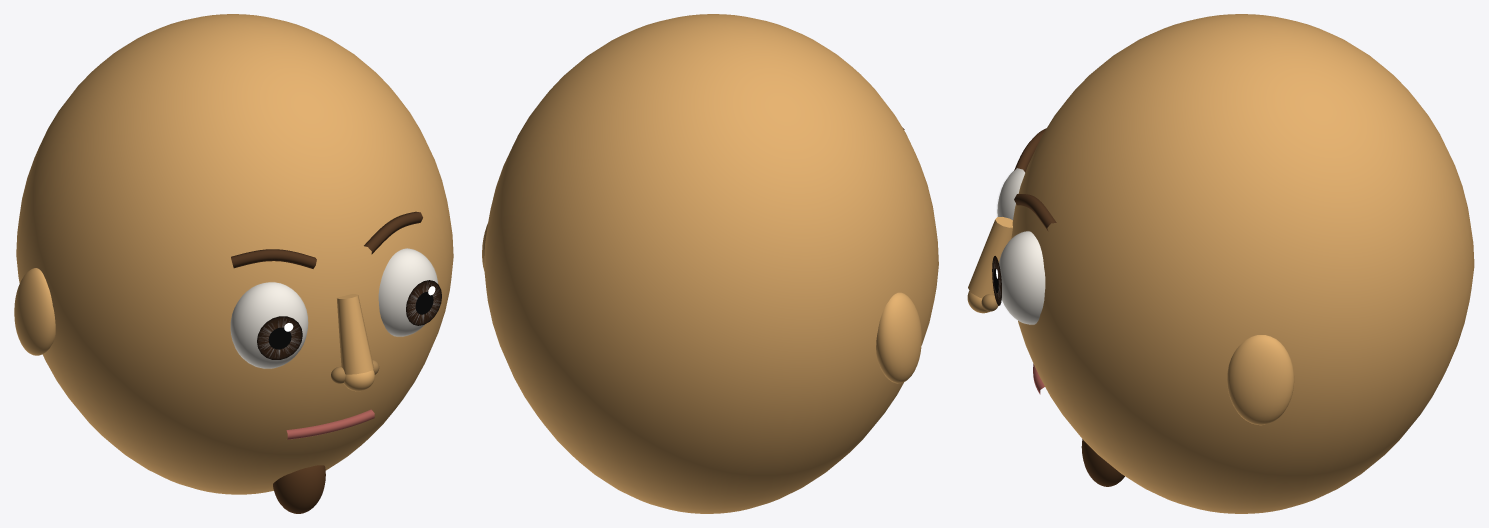
The model's file is 03-bouc.glb.
The picture shows the model from 3 angles, left to right: view 1: azimuth 30°, elevation 25°; view 2: azimuth 150°, elevation 25°; view 3: azimuth 270°, elevation 25°; orthographic projection. The views are drawn at different scales.
Bounding box in the file's own units: 0.3087 × 0.321 × 0.3166.
Materials: 10 (1 with a texture image).
